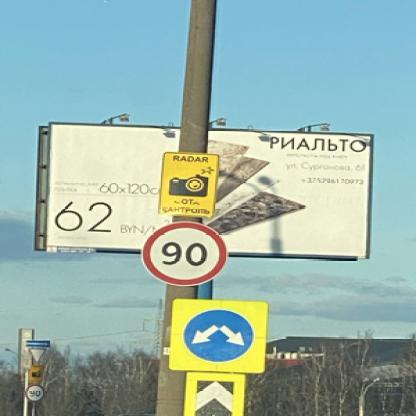Speed Limit 90: (141, 222, 228, 286)
